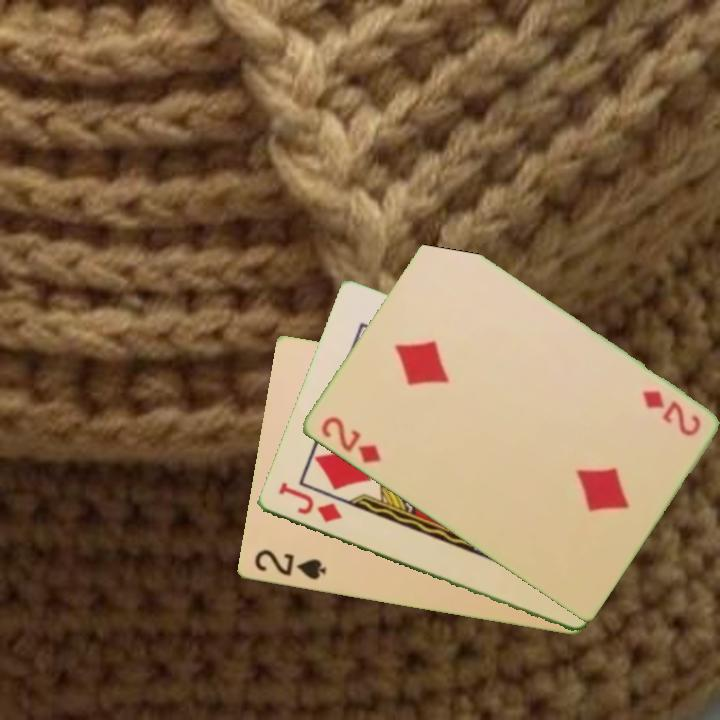2d: (317, 413, 383, 467), (638, 386, 703, 440)
2s: (250, 546, 329, 583)
Jd: (274, 478, 345, 526)
